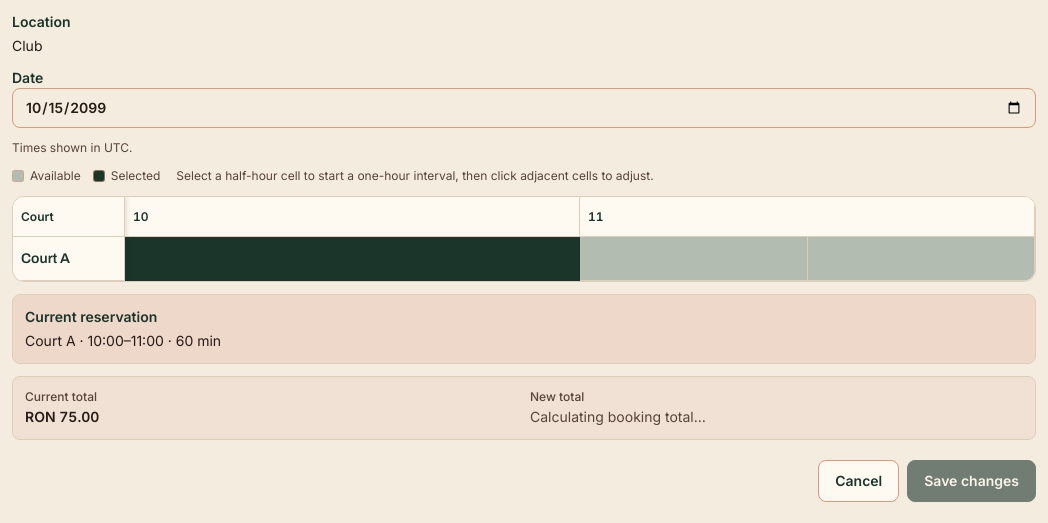
Test: loads changed dates and refreshes conflicts without reusing the initial day
Check: the text "Current reservation" is shown, box [25, 308, 157, 325]
In the date field labelled "Date": (524, 108) [12, 88, 1036, 128], type "2099-10-16"
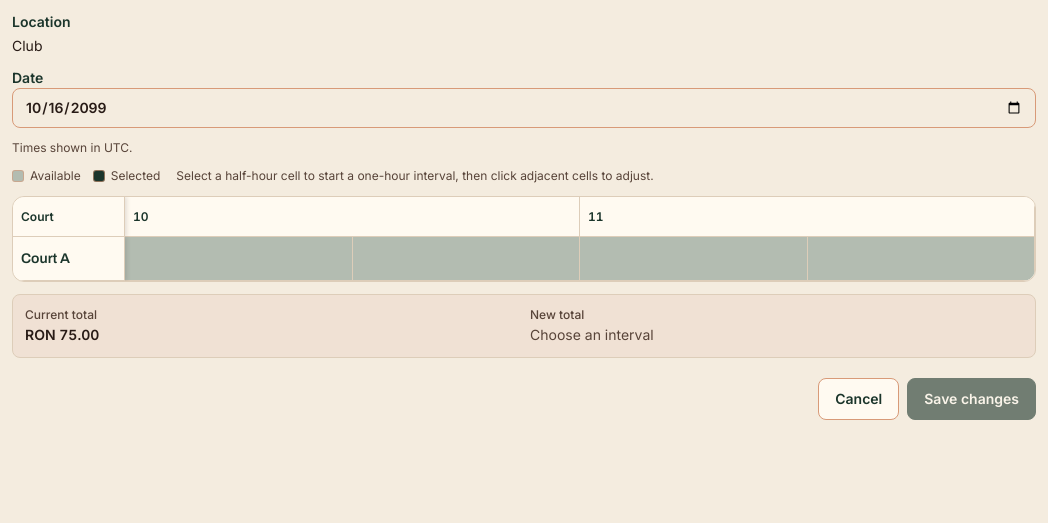
Click the button named "Court A 2099-10-16 10:00–10:30": (239, 258) [125, 237, 352, 280]
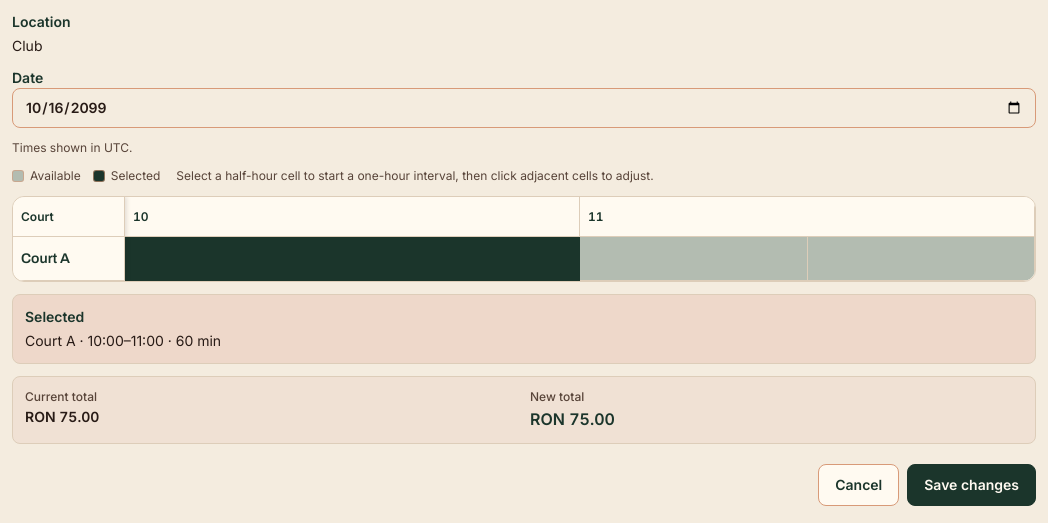
Check: the button "Save changes" is enabled
Click the button "Save changes": (972, 485) [907, 464, 1036, 506]
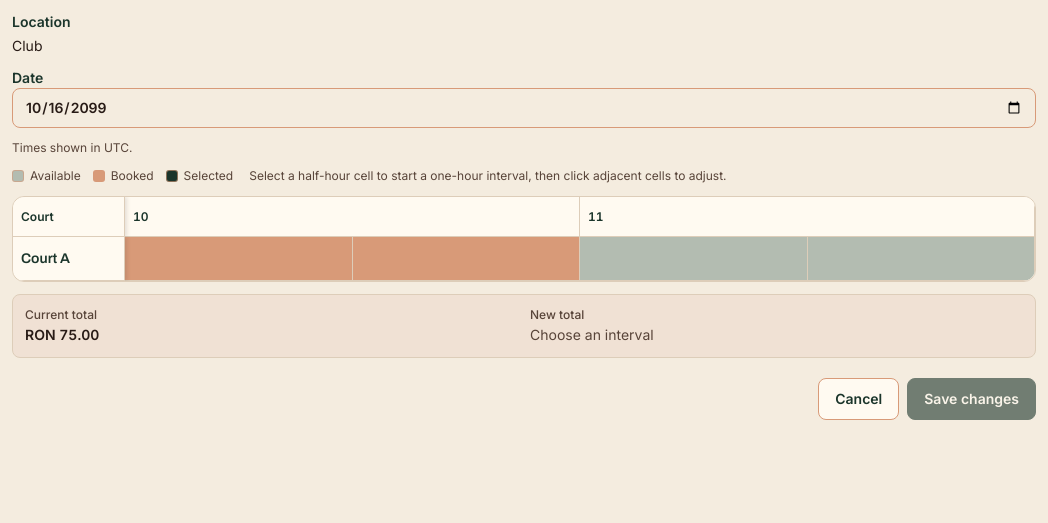
Check: the button "Save changes" is disabled, box [907, 378, 1036, 420]
